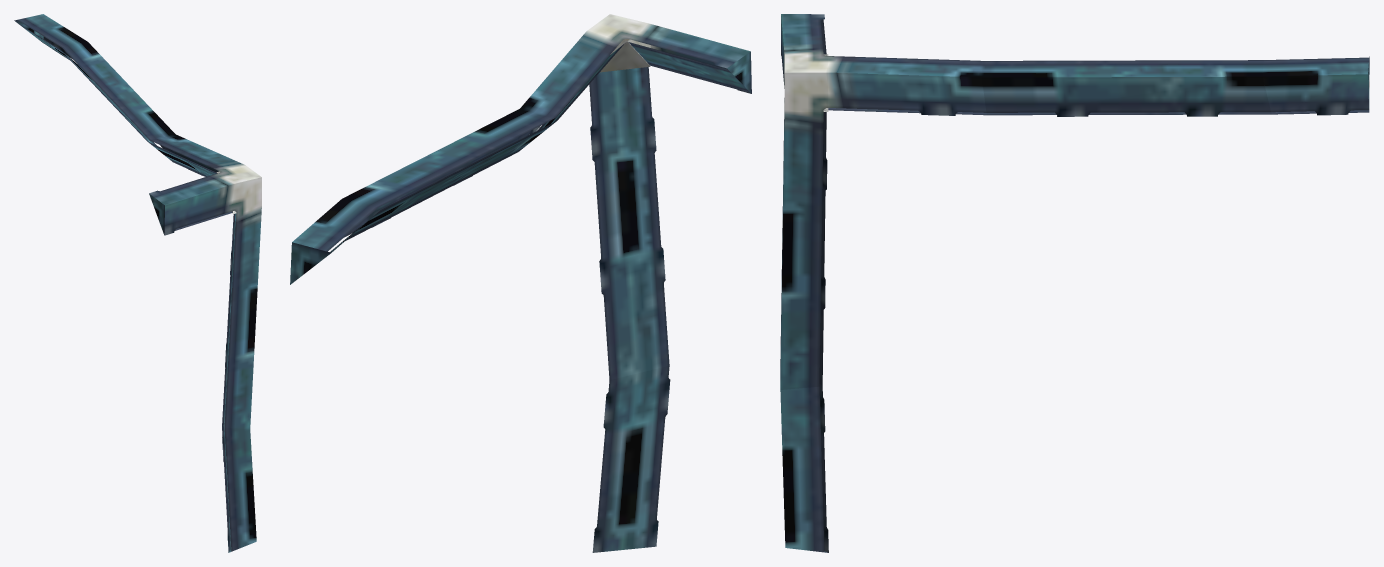
Rendered from cage_broken1.obj.
The picture shows the model from 3 angles, left to right: view 1: azimuth 30°, elevation 25°; view 2: azimuth 150°, elevation 25°; view 3: azimuth 270°, elevation 25°; orthographic projection. The views are drawn at different scales.
Parts seen in each view (by area): view 1: Object_1; view 2: Object_1; view 3: Object_1.
Boxes of the visible parts, x1,y1,x2,y2 form: Object_1: [14, 14, 261, 552]; Object_1: [290, 14, 751, 552]; Object_1: [780, 14, 1369, 552].
Bounding box in the file's own units: 4.65 × 15.36 × 16.91.
